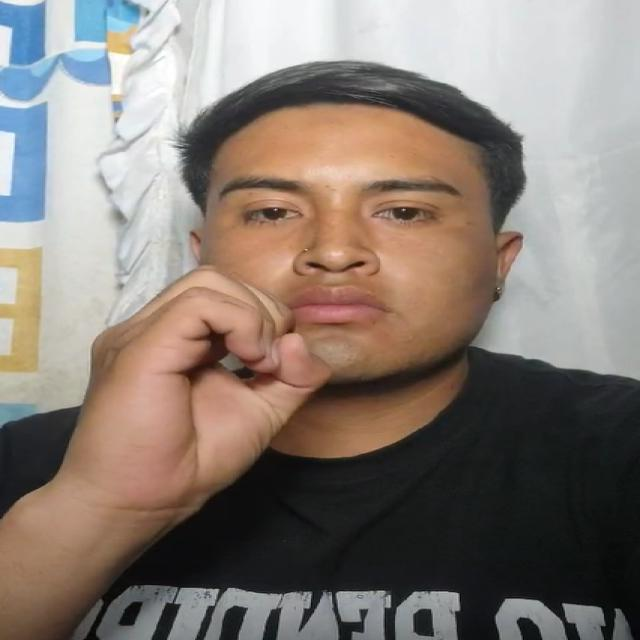O: (29, 255, 332, 531)
